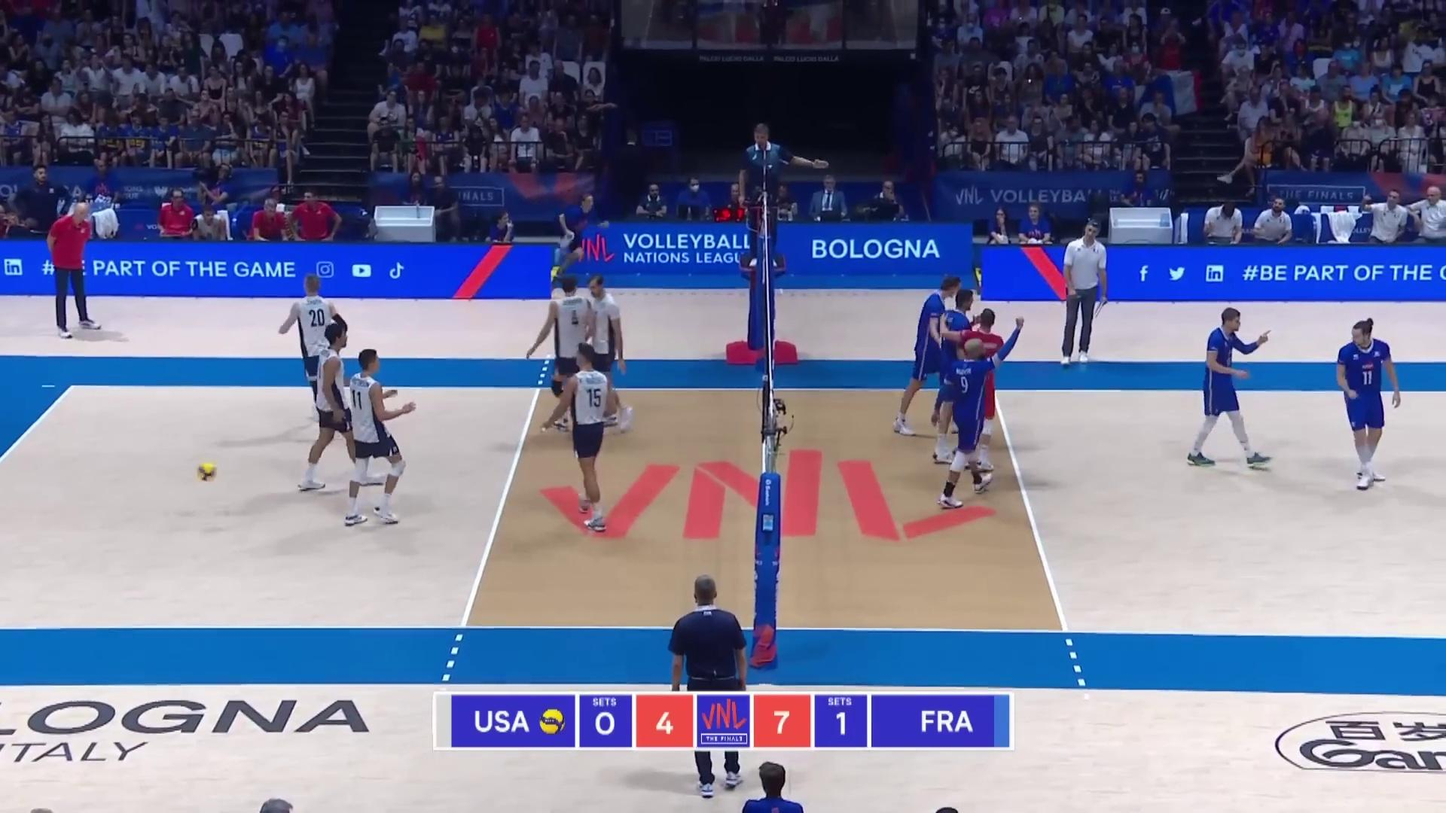player: (1183, 309, 1276, 473), (337, 347, 415, 529), (300, 324, 385, 491), (556, 344, 631, 530), (896, 275, 976, 438), (278, 274, 350, 434), (1334, 318, 1399, 492), (938, 338, 1001, 506), (536, 276, 600, 430), (929, 291, 978, 461), (581, 276, 633, 432), (957, 310, 999, 471)
refree: (667, 573, 753, 793), (737, 124, 792, 268)
